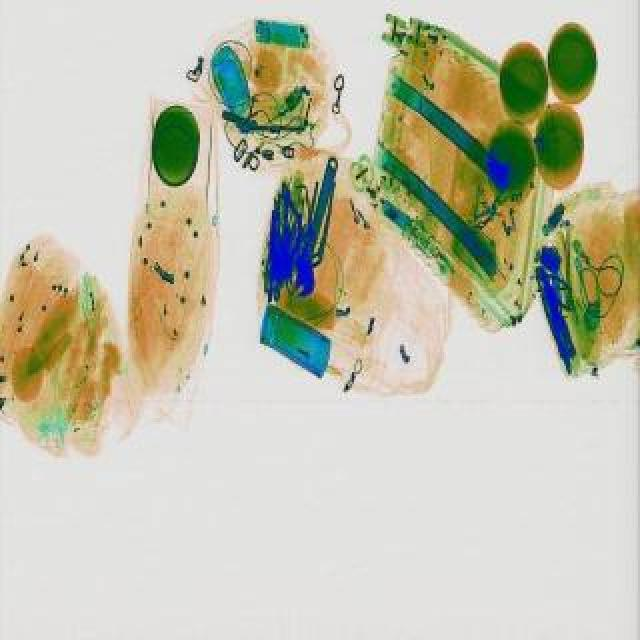scissors: (286, 158, 350, 302)
wrench: (528, 266, 584, 314)
